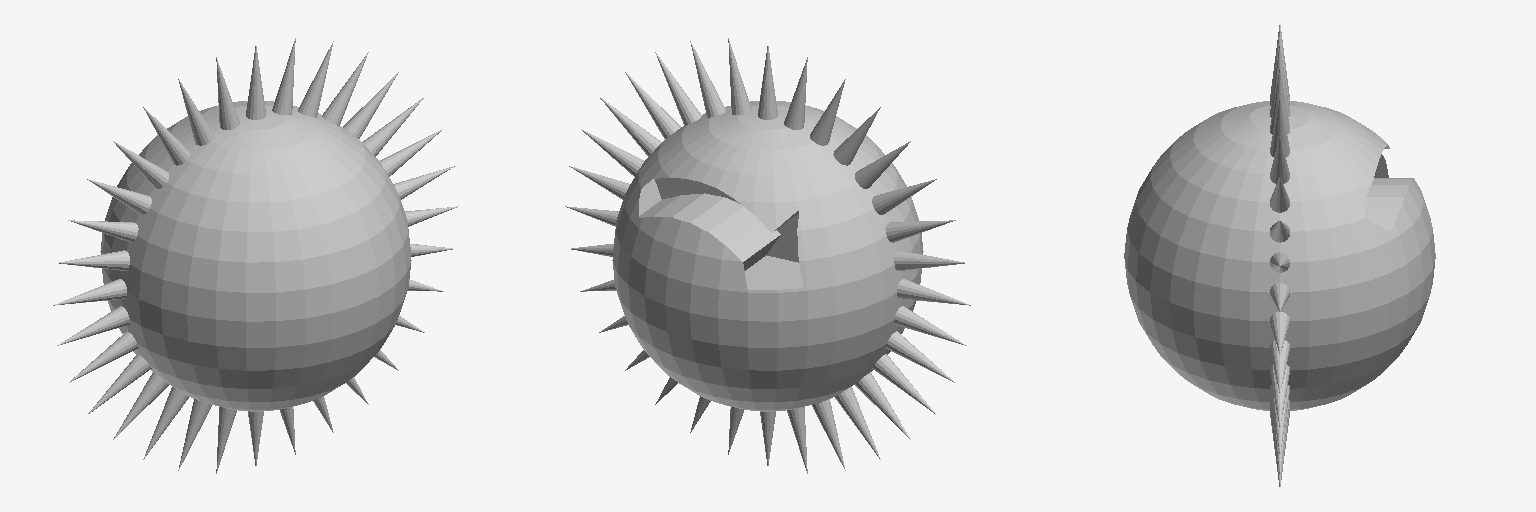
The model's file is SpikeBall2.obj.
The picture shows the model from 3 angles: view 1: azimuth 30°, elevation 25°; view 2: azimuth 150°, elevation 25°; view 3: azimuth 270°, elevation 25°; orthographic projection.
Parts seen in each view (by area): view 1: Sphere_Sphere.001; view 2: Sphere_Sphere.001; view 3: Sphere_Sphere.001.
Part boxes in pixels (x1,y1,x2,y2): Sphere_Sphere.001: (53,38,458,473); Sphere_Sphere.001: (565,38,970,473); Sphere_Sphere.001: (1124,25,1435,486).
Size of the model in its own units: 0.4835 by 0.4835 by 0.32.